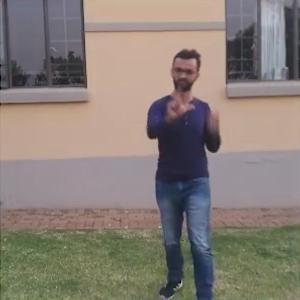land_hand: (163, 77, 196, 120)
